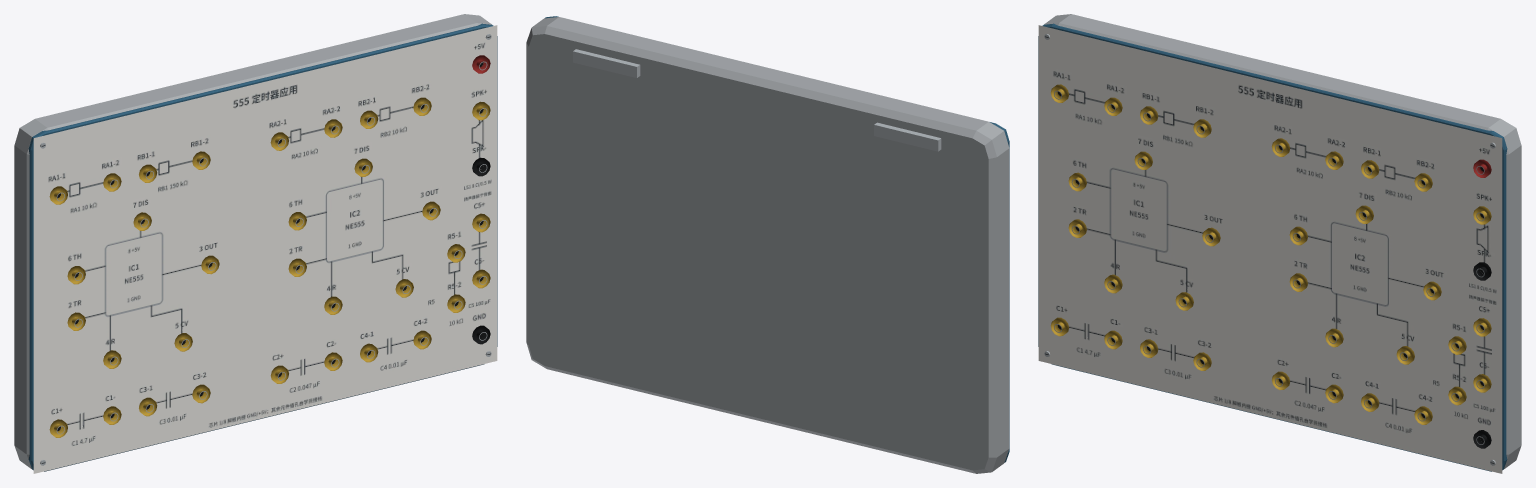
The model's file is module.glb.
3 views of the same model, side by side, from view 1: azimuth 30°, elevation 25°; view 2: azimuth 150°, elevation 25°; view 3: azimuth 330°, elevation 25° (orthographic).
Visible parts, largest first — view 1: PANEL_silkscreen, STATIC_paint, STATIC_metal; view 2: STATIC_paint, STATIC_metal; view 3: PANEL_silkscreen, STATIC_paint, STATIC_metal.
Part boxes in pixels (bbox=[...]): PANEL_silkscreen: bbox=[33, 25, 497, 473]; STATIC_paint: bbox=[14, 14, 497, 471]; STATIC_metal: bbox=[40, 34, 491, 465]; STATIC_paint: bbox=[526, 16, 1009, 473]; STATIC_metal: bbox=[573, 49, 941, 151]; PANEL_silkscreen: bbox=[1038, 25, 1502, 473]; STATIC_paint: bbox=[1038, 14, 1521, 471]; STATIC_metal: bbox=[1044, 34, 1495, 465].
Size of the model in its own units: 0.264 by 0.184 by 0.0251.
3 materials, 1 textured.
